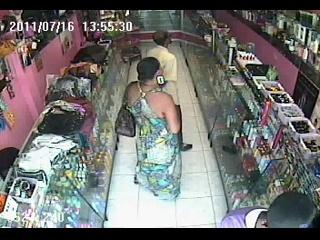Normal: (123, 58, 183, 196), (146, 30, 192, 152), (218, 191, 318, 228), (115, 106, 136, 138)
